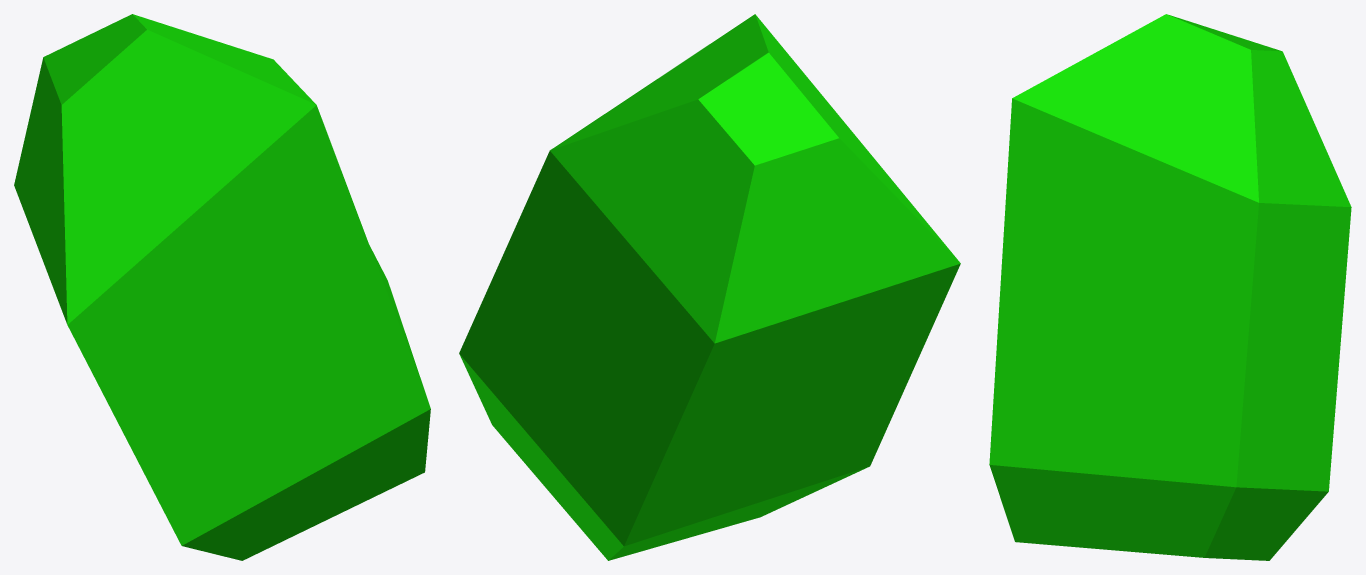
Rendered from cubic.glb.
The picture shows the model from 3 angles, left to right: view 1: azimuth 30°, elevation 25°; view 2: azimuth 150°, elevation 25°; view 3: azimuth 270°, elevation 25°; orthographic projection.
Visible parts, largest first — view 1: Cube; view 2: Cube; view 3: Cube.
Part boxes in pixels (box(x1,y1,x2,y2)): Cube: box(14, 14, 430, 560); Cube: box(459, 14, 960, 560); Cube: box(989, 14, 1351, 560).
Bounding box in the file's own units: 3.3 × 3.91 × 2.54.
